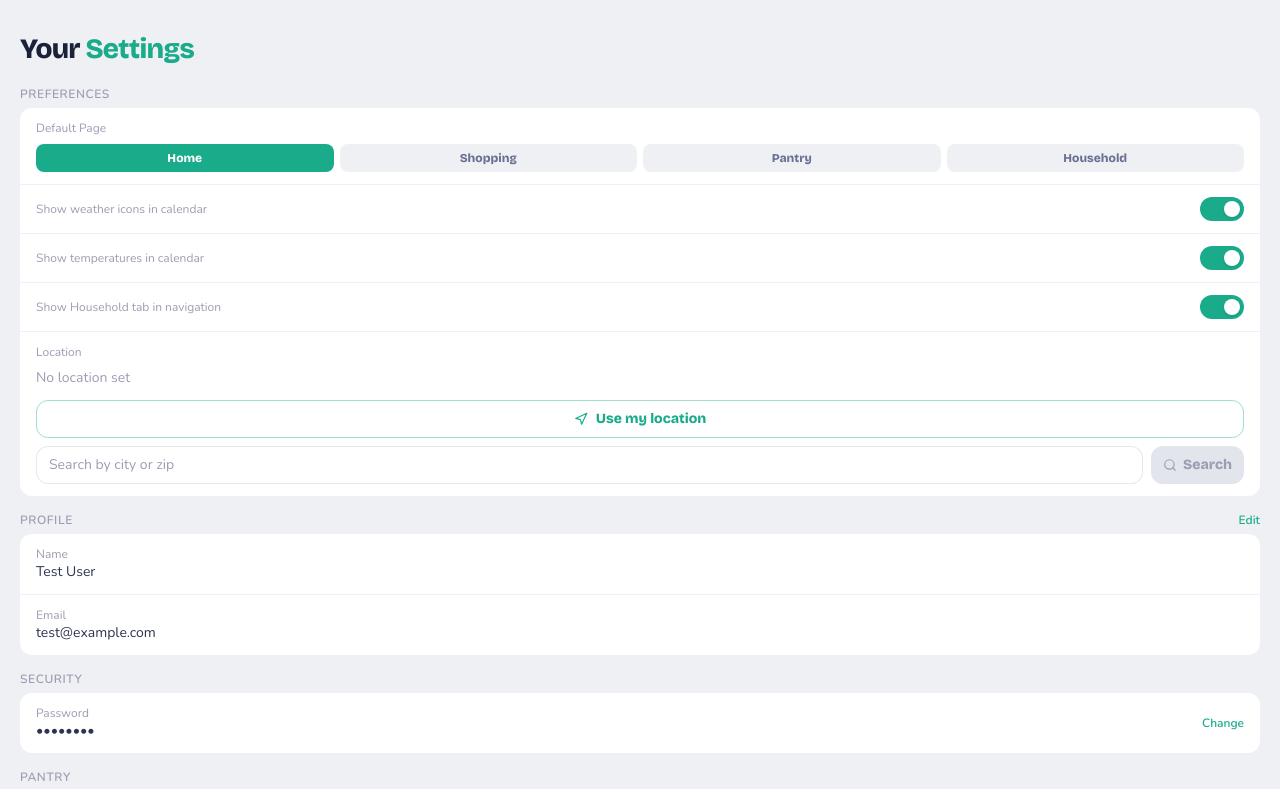
Test case: SettingsPage › discards unsaved profile changes when switching to security
# Start profile edit and change the name
Click the button "Edit" at (1249, 520), box top-left (1239, 512), bottom-right (1260, 528)
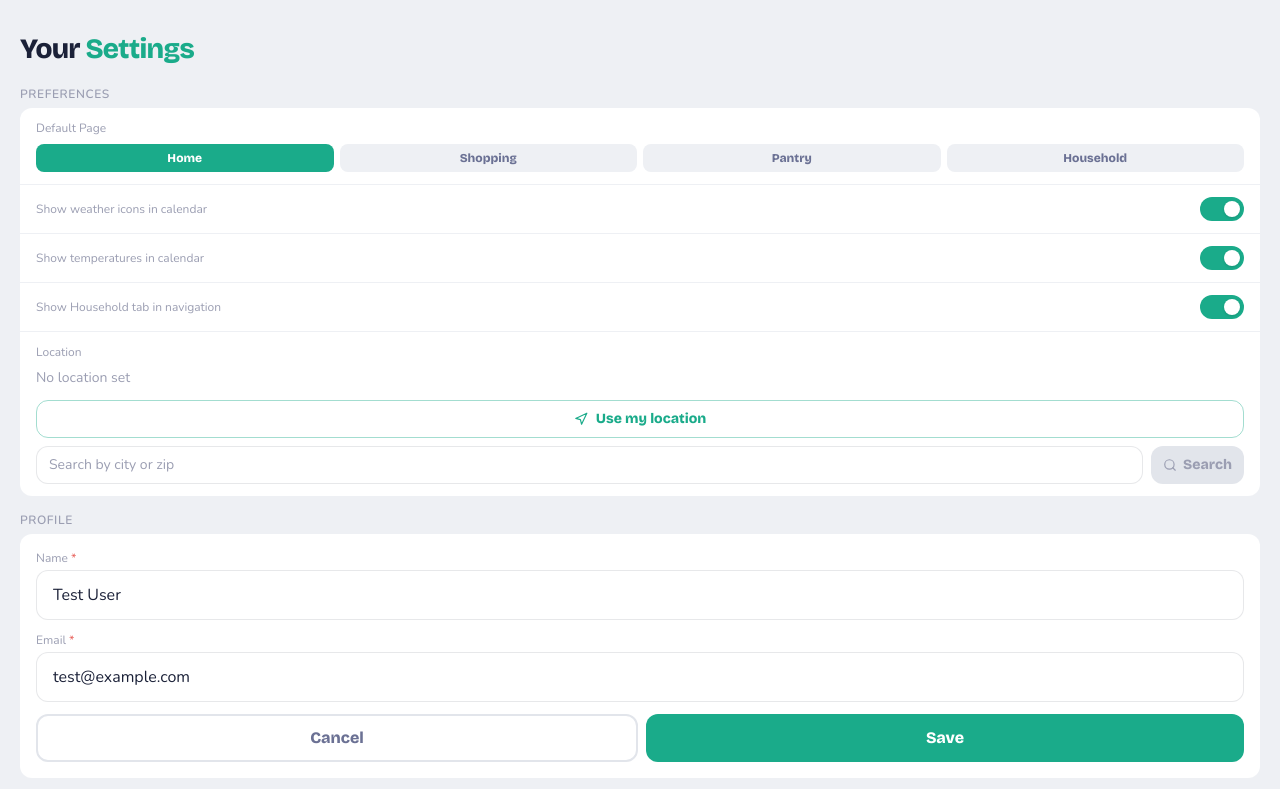
Replace the text in the field showing "Test User" with "Changed Name" at (640, 595), box top-left (36, 570), bottom-right (1244, 620)
(page scrolled)
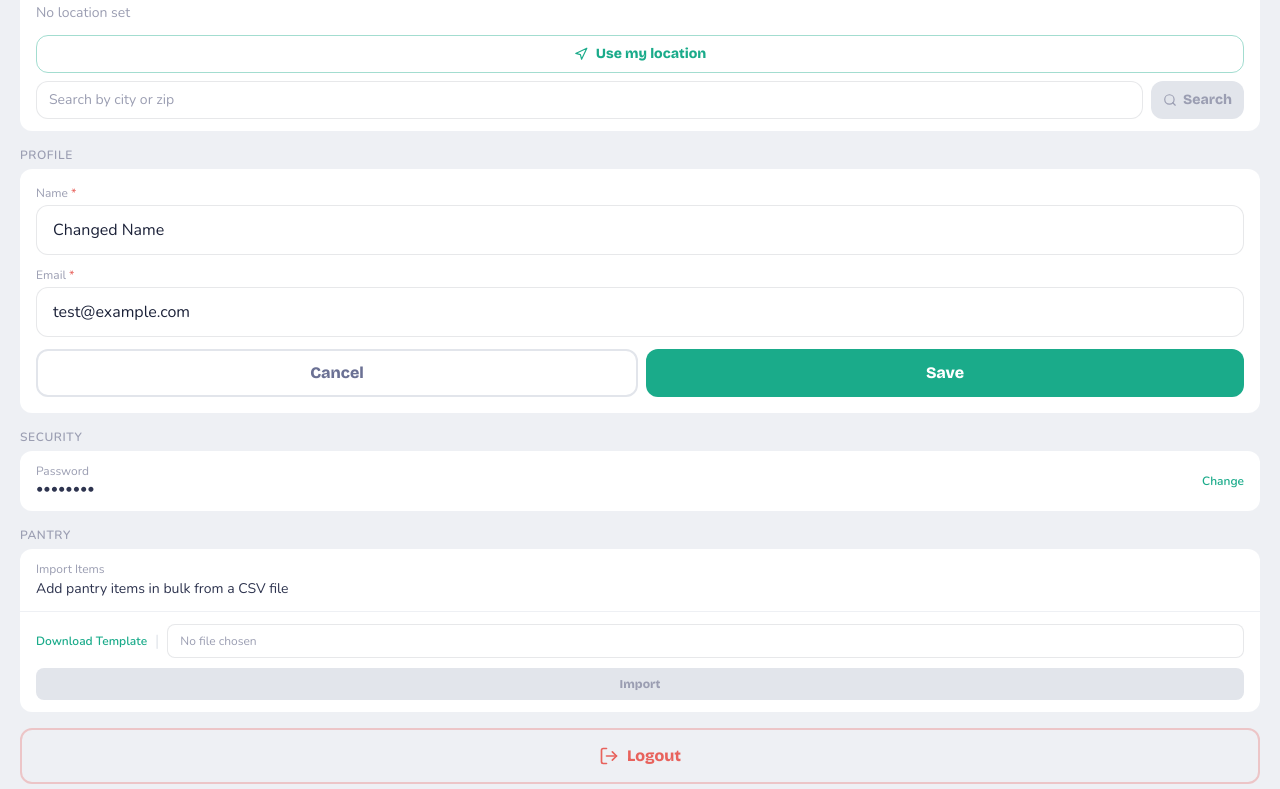
# Switch to security — profile collapses
Click the button "Change" at (1223, 481), box top-left (1202, 473), bottom-right (1244, 489)
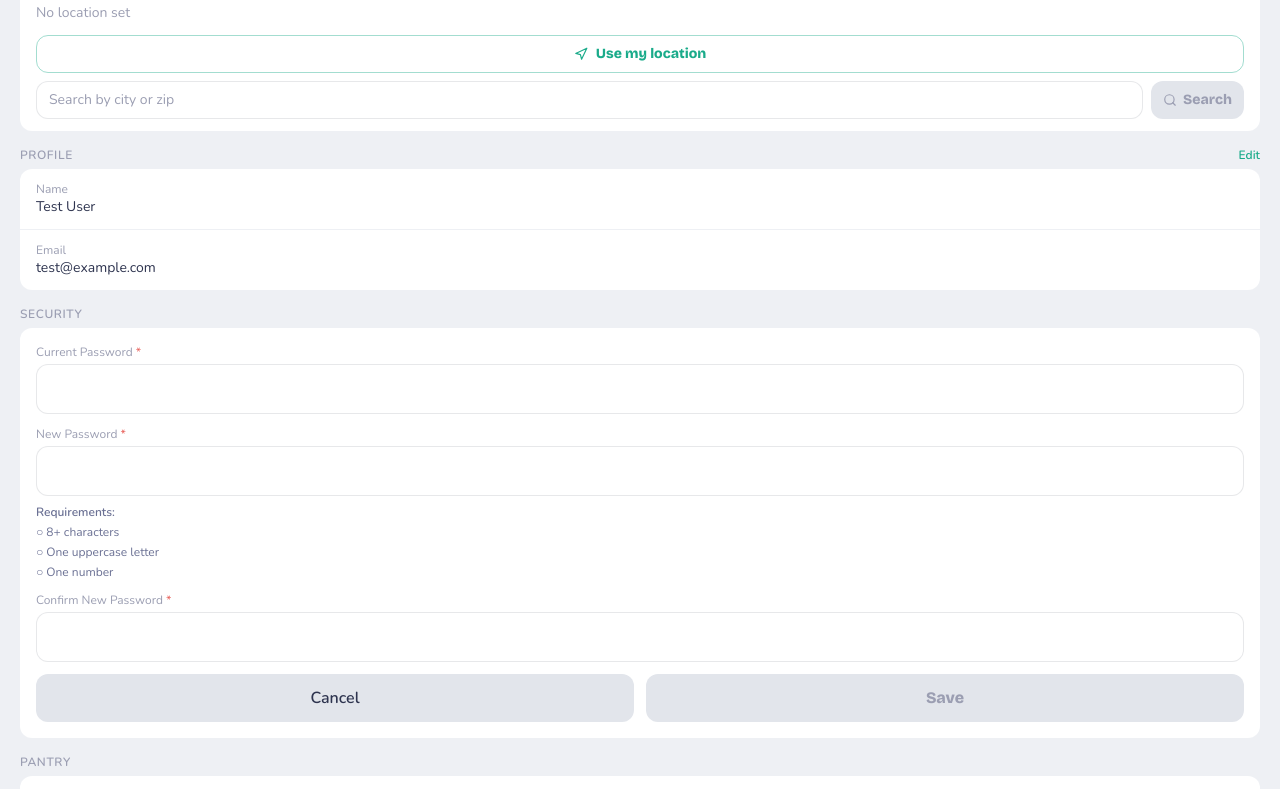
# Switch back to profile — name should be original, not 'Changed Name'
Click the button "Edit" at (1249, 155), box top-left (1239, 147), bottom-right (1260, 163)
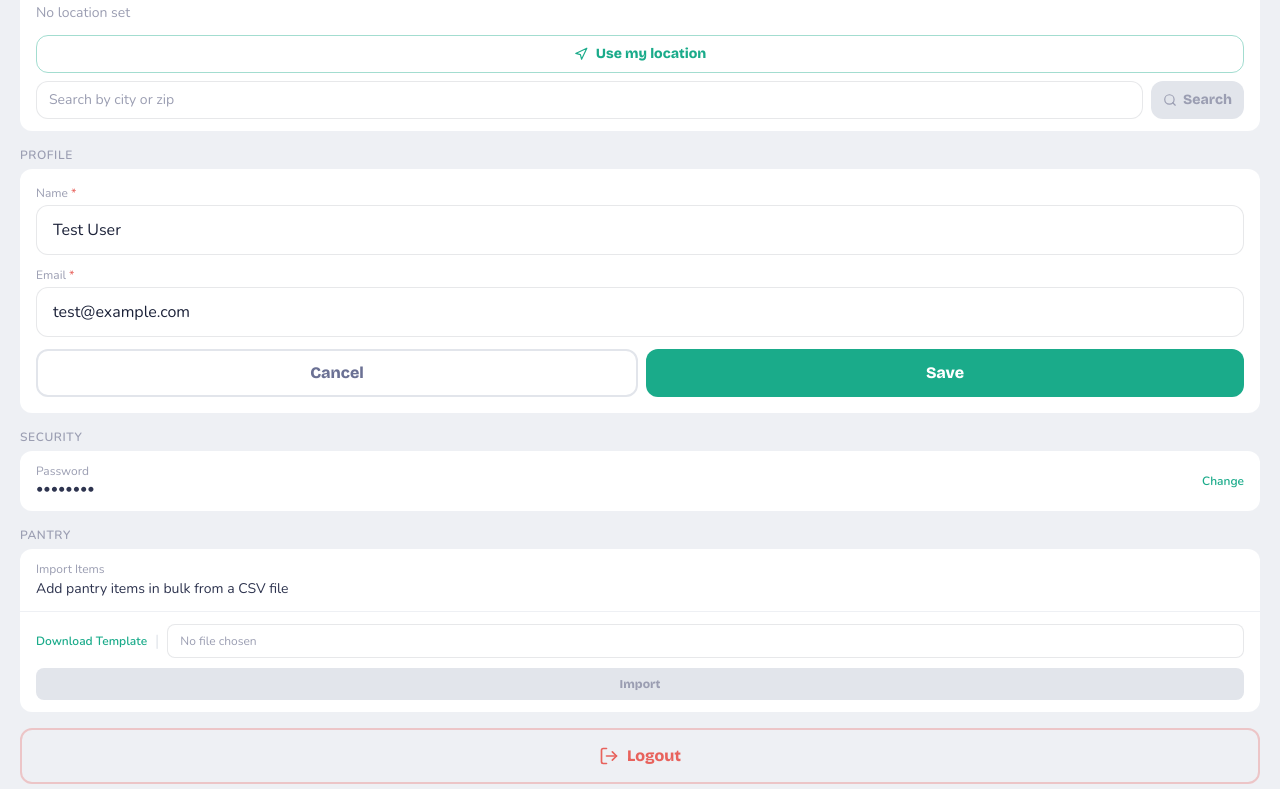
expect the field showing "Changed Name" is not shown: met
expect the field showing "Test User" is shown: met, box top-left (36, 205), bottom-right (1244, 255)
